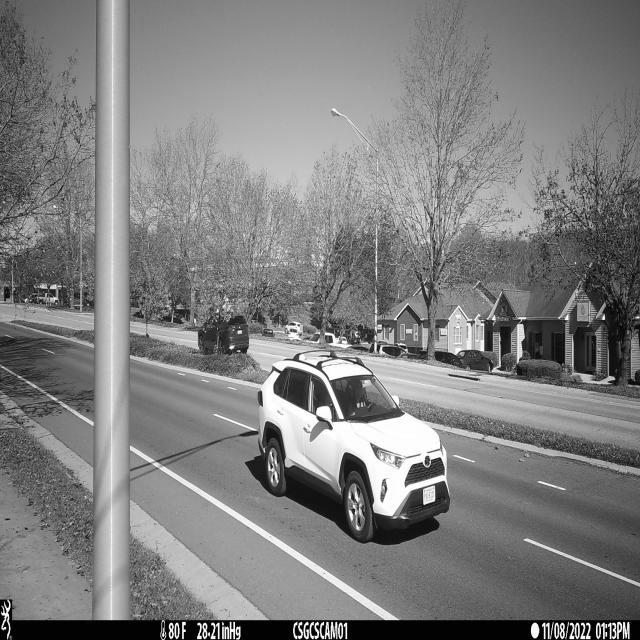SUV: (257, 348, 451, 543)
